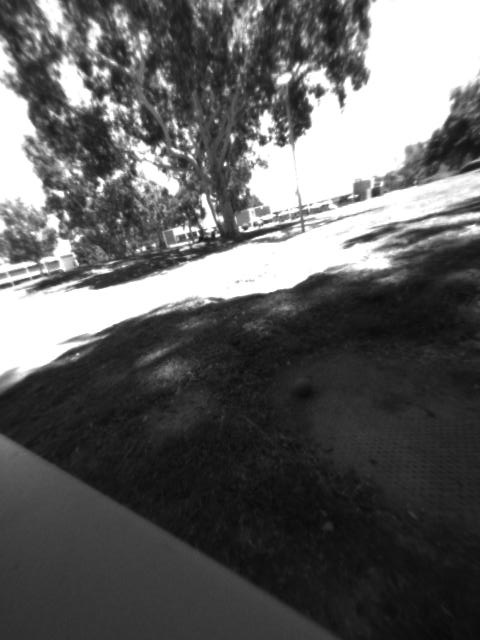dogtoy: (280, 367, 327, 409)
